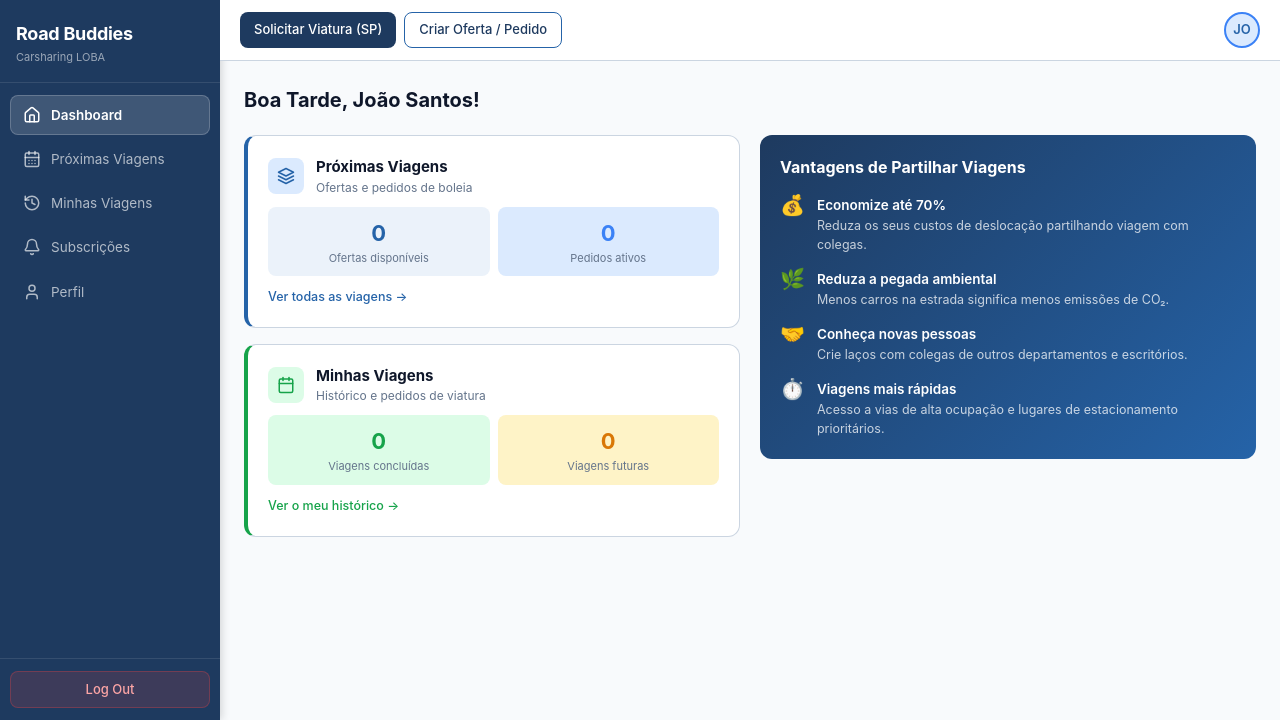
Scenario: Navegação e Autenticação Geral › deve realizar logout com sucesso e limpar sessão
Expected: the text "Road Buddies" is shown, [16,20,133,47]
Click the button "Log Out": [110, 690] box [10,671,210,709]
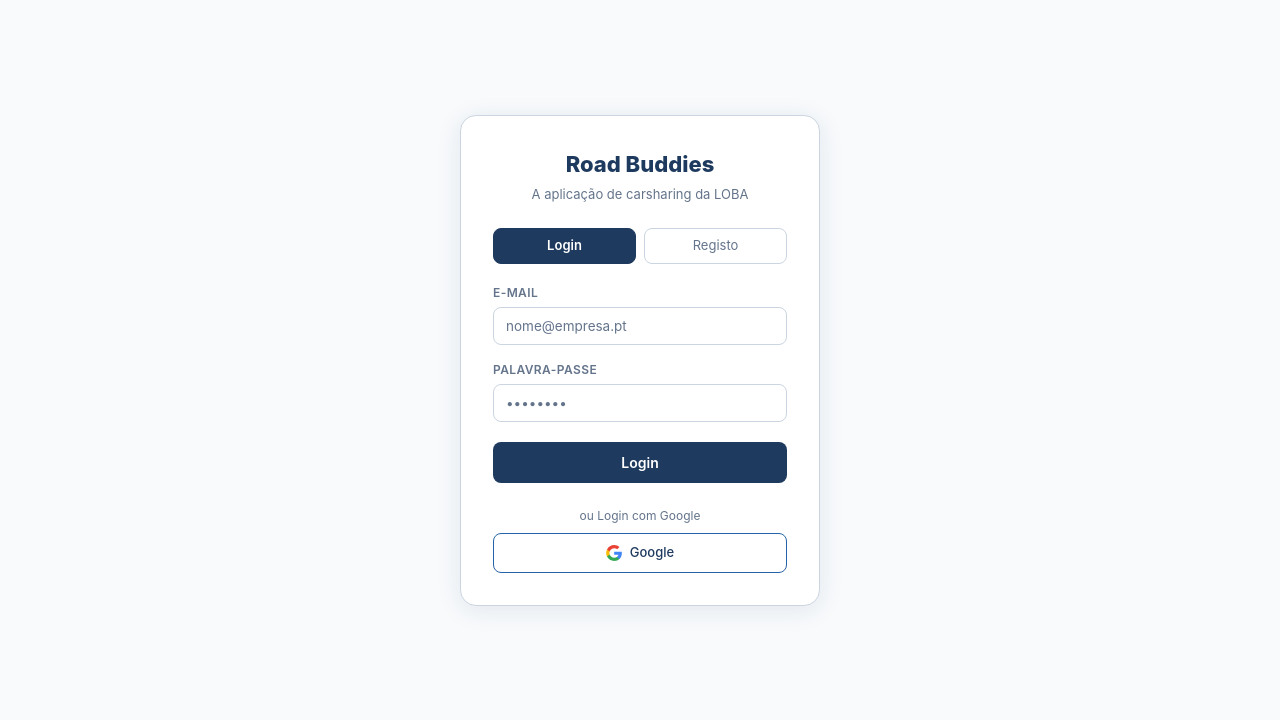
Result: the button "Log Out" is gone
Result: the 1st button "Login" is shown at [493,228,636,264]
